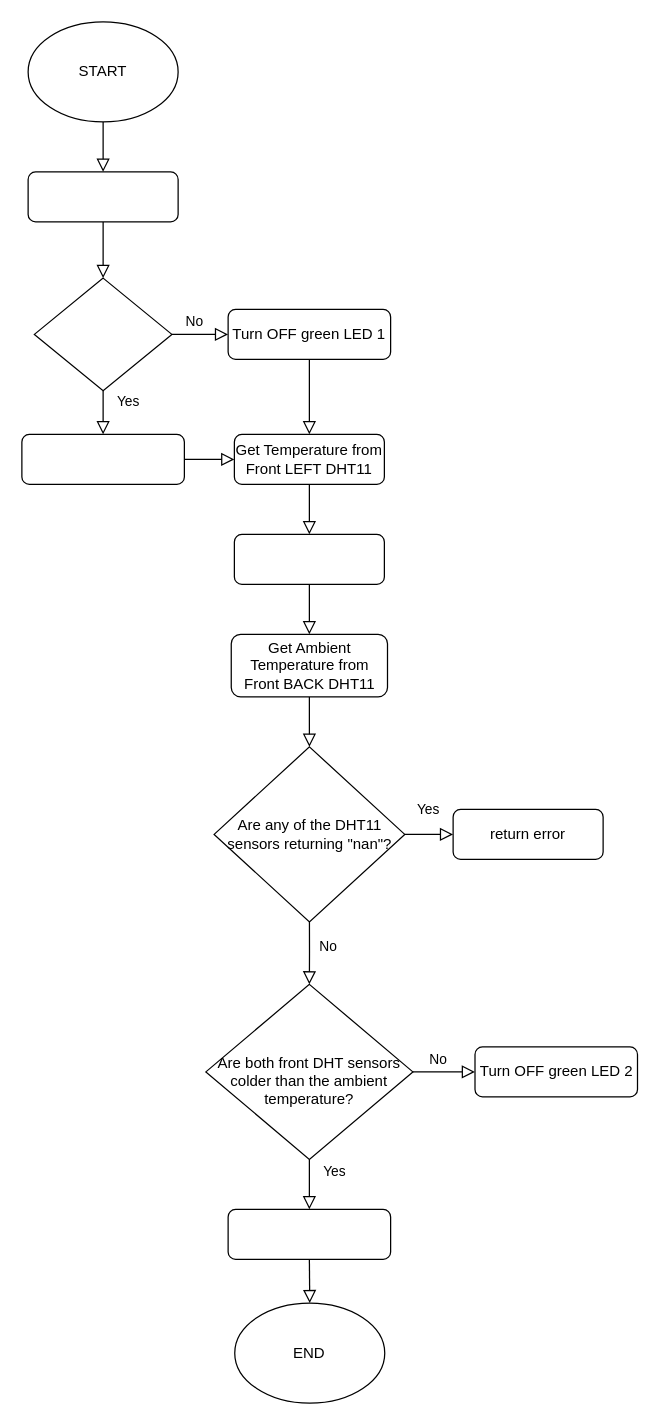
This 660x1425 diagram has some shape labels left out. The centre of each missing label's shape, as x and y in pixels:
Get Temperature from Front RIGHT DHT11: point 308,558
Get touch state of TTP223B: point 102,196
Is TTP223B being touched?: point 102,334
Turn ON green LED 1: point 102,458
Turn ON green LED 2: point 309,1233
